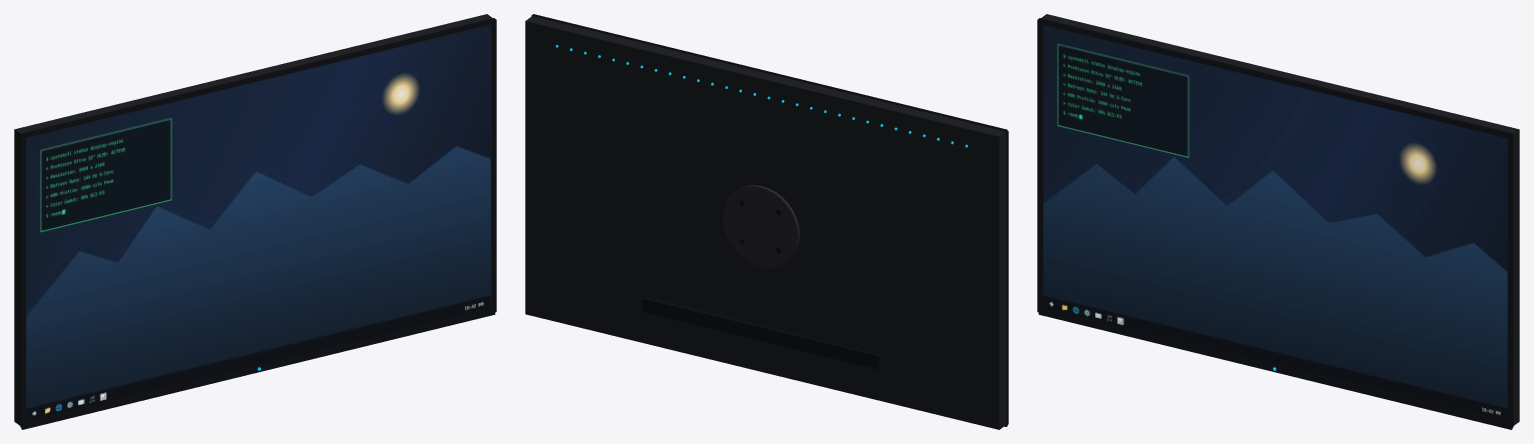
The model's file is ergoflex-wide-monitor.glb.
3 views of the same model, side by side, from view 1: azimuth 30°, elevation 25°; view 2: azimuth 150°, elevation 25°; view 3: azimuth 330°, elevation 25° (orthographic).
Parts seen in each view (by area): view 1: monitor-screen, Mesh_2, Mesh_0; view 2: Mesh_0, Mesh_6, Mesh_7, Mesh_2; view 3: monitor-screen, Mesh_2, Mesh_0.
Boxes of the visible parts, x1=… form: monitor-screen: x1=26, y1=25, x2=490, y2=421; Mesh_2: x1=20, y1=18, x2=496, y2=429; Mesh_0: x1=14, y1=14, x2=492, y2=425; Mesh_0: x1=525, y1=16, x2=1006, y2=429; Mesh_6: x1=722, y1=185, x2=799, y2=267; Mesh_7: x1=642, y1=200, x2=880, y2=369; Mesh_2: x1=531, y1=14, x2=1008, y2=426; monitor-screen: x1=1043, y1=25, x2=1507, y2=421; Mesh_2: x1=1037, y1=18, x2=1513, y2=429; Mesh_0: x1=1041, y1=14, x2=1519, y2=425.
Size of the model in its own units: 0.7 by 0.4165 by 0.0291.
5 materials, 5 textured.
